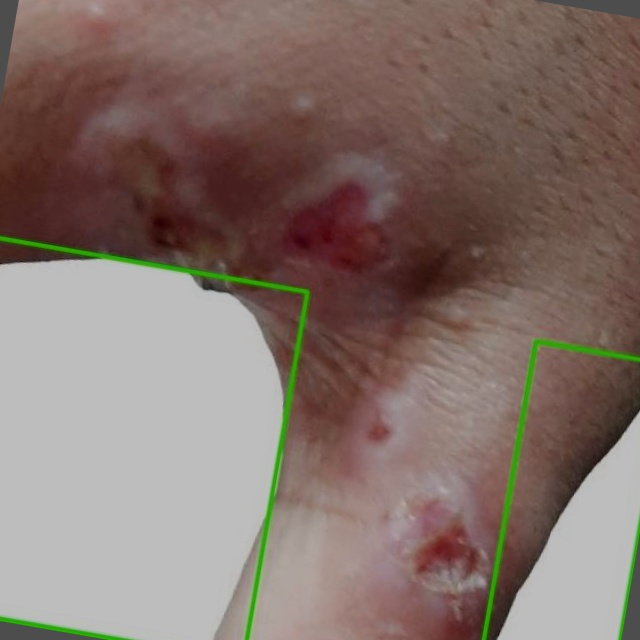Scabies: (0, 238, 308, 639), (483, 341, 639, 639)
